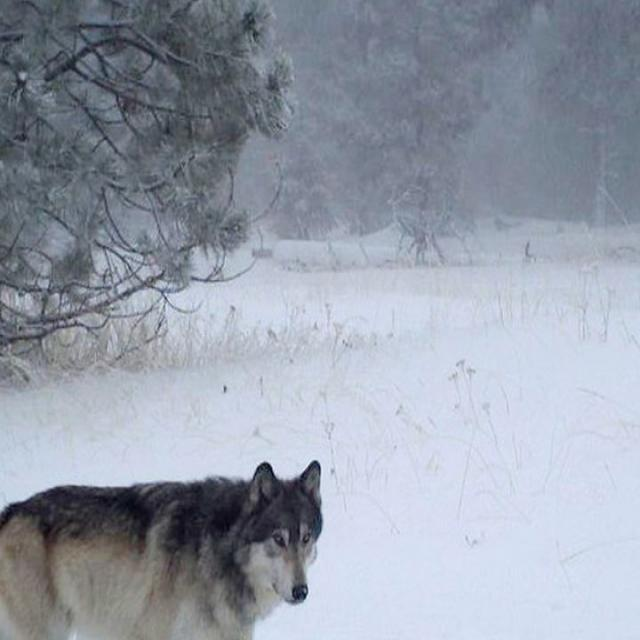wolf: (0, 444, 321, 640)
